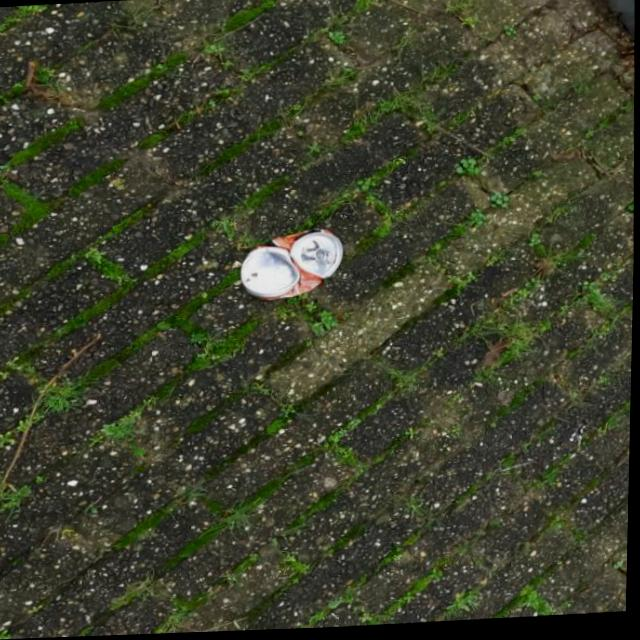Can-Metal: (239, 226, 348, 305)
